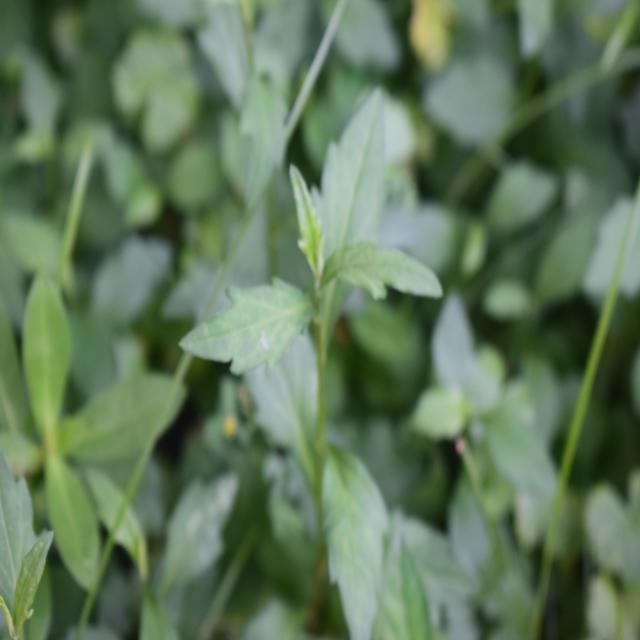Indian aster: (227, 88, 417, 629)
